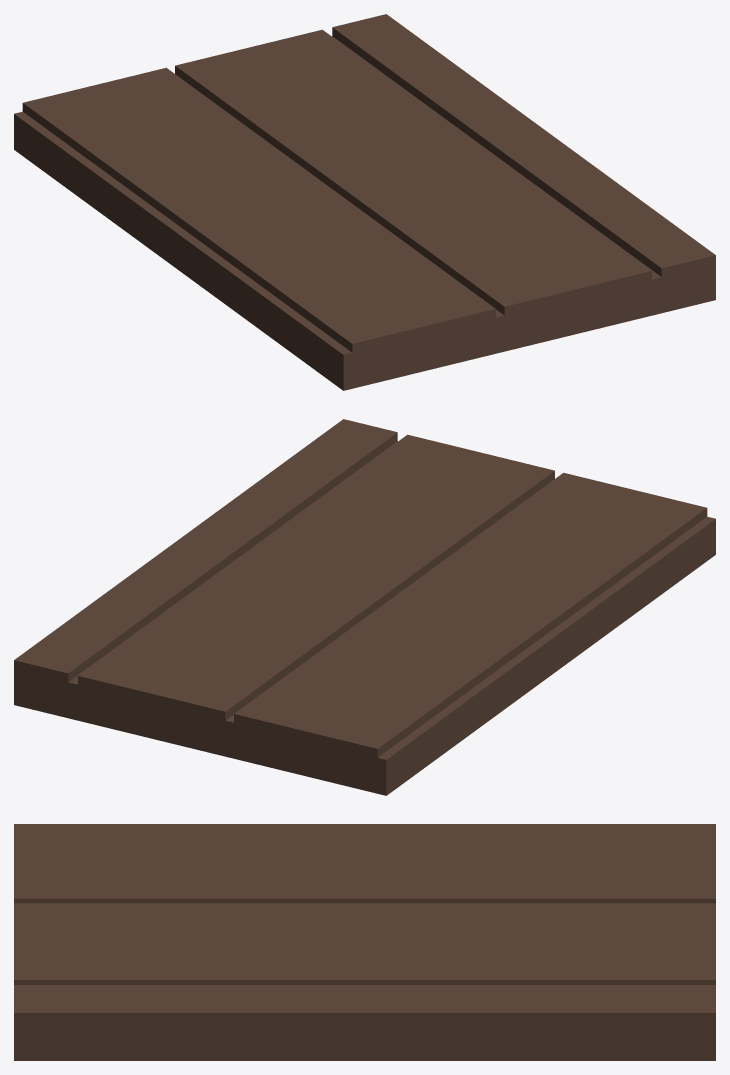
Rendered from sol angle etage2.FBX.
The picture shows the model from 3 angles, top to bottom: view 1: azimuth 30°, elevation 25°; view 2: azimuth 150°, elevation 25°; view 3: azimuth 270°, elevation 25°; orthographic projection. The views are drawn at different scales.
Visible parts, largest first — view 1: sol angle etage 2; view 2: sol angle etage 2; view 3: sol angle etage 2.
Part boxes in pixels (x1,y1,x2,y2): sol angle etage 2: (14, 14, 715, 390); sol angle etage 2: (14, 419, 715, 795); sol angle etage 2: (14, 824, 715, 1060).
Bounding box in the file's own units: 66.03 × 7.6 × 101.
1 material, 1 textured.
